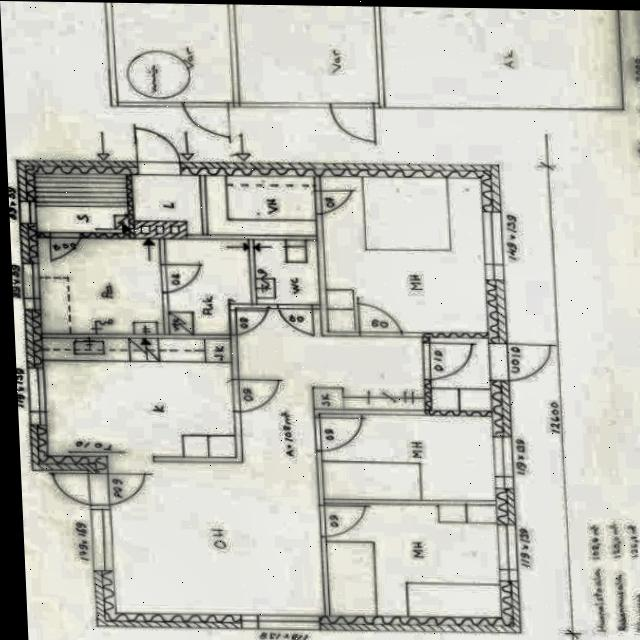room: (320, 174, 487, 333), (324, 503, 503, 617), (319, 413, 497, 500), (235, 3, 379, 102), (37, 237, 165, 334), (112, 1, 233, 102), (165, 234, 253, 336), (205, 174, 317, 235), (35, 173, 130, 233), (431, 335, 491, 411), (254, 239, 321, 304), (131, 174, 203, 233)
